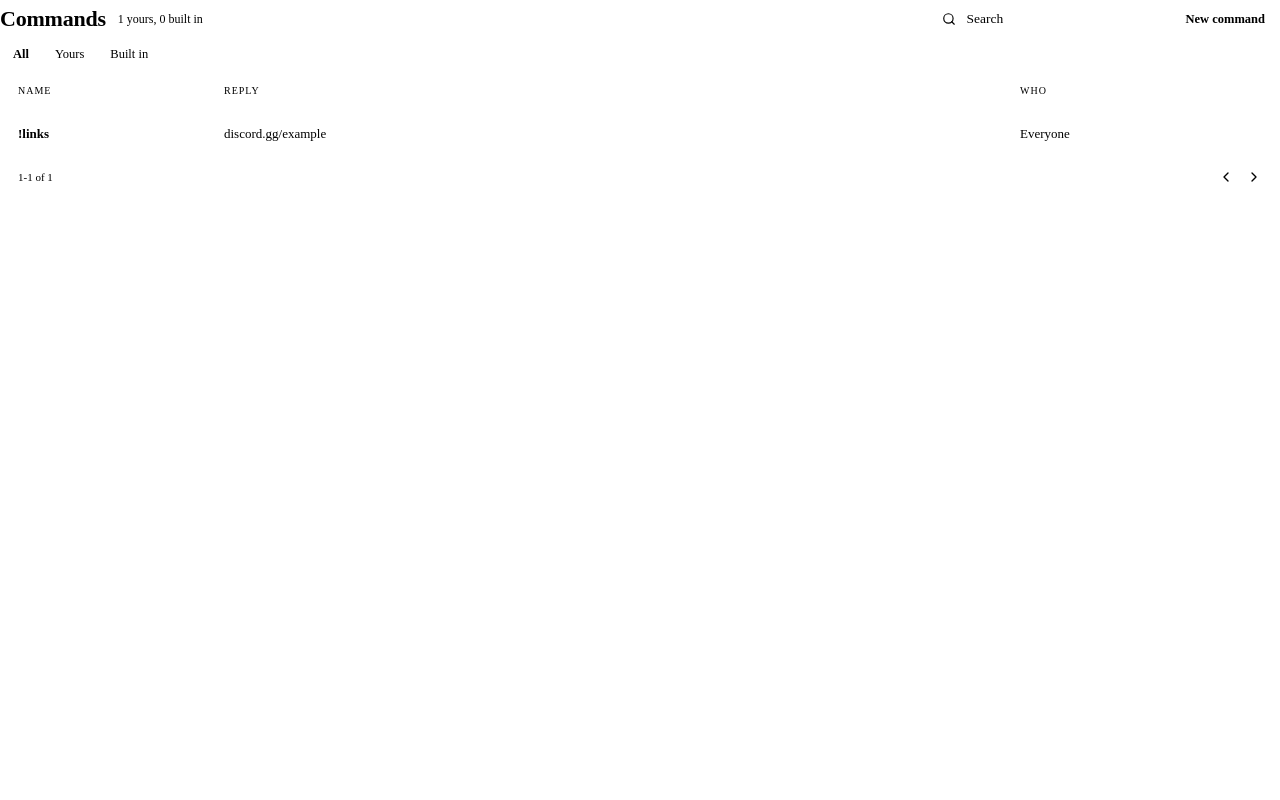
Commands › refuses an invalid name before it reaches the server
Expected: the text "!links" is shown, [18, 126, 49, 140]
Click the button "New command". click: (1226,19)
box: [1172, 0, 1279, 39]
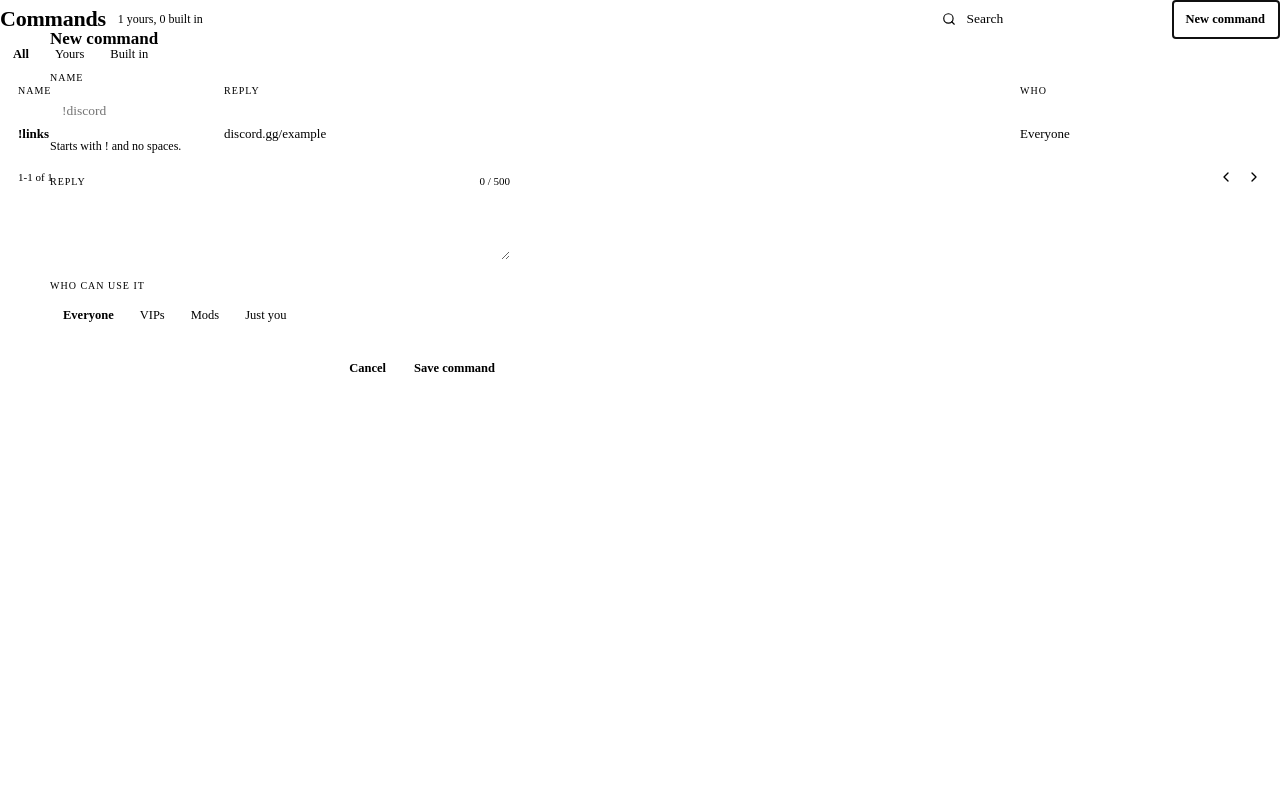
Type "nobang" into the field with placeholder "!discord". click: (280,111)
box: [50, 92, 510, 130]
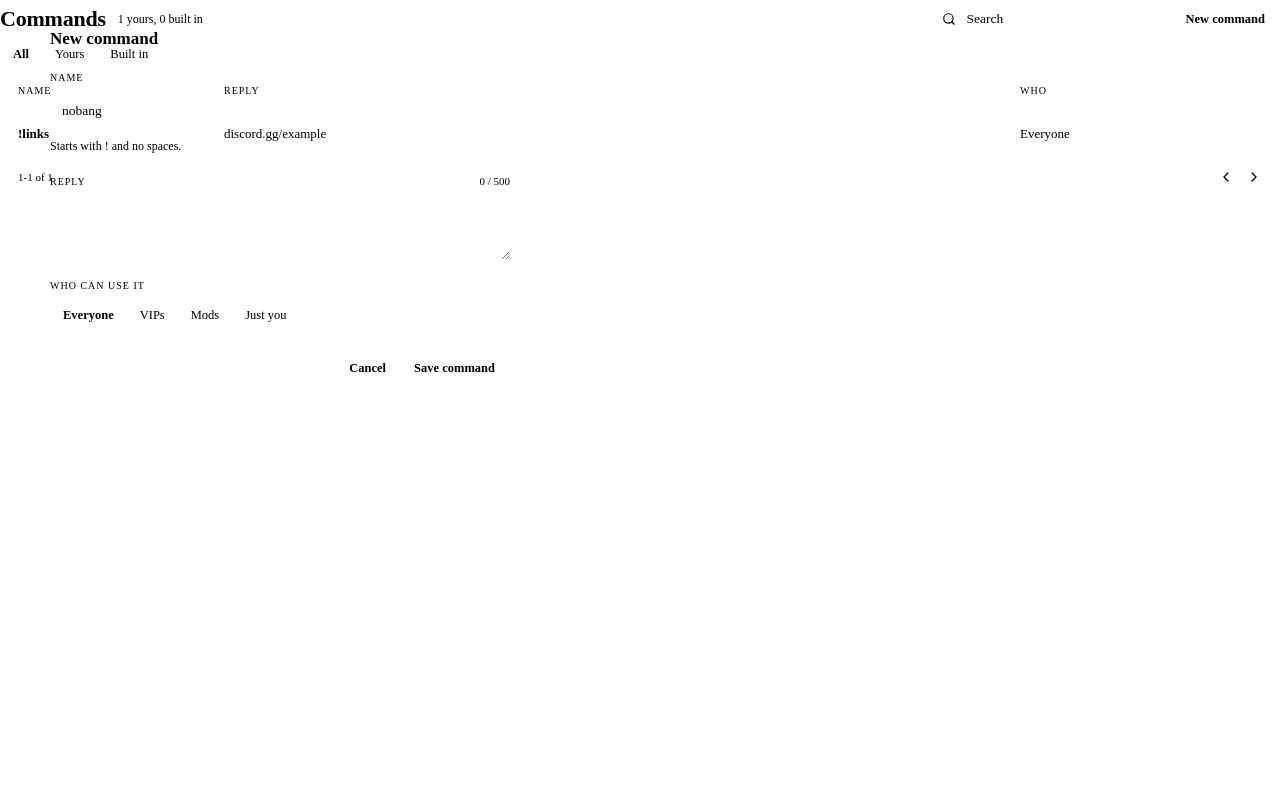
Type "x" into the text box with class "field__textarea". click: (280,228)
box: [50, 196, 510, 260]
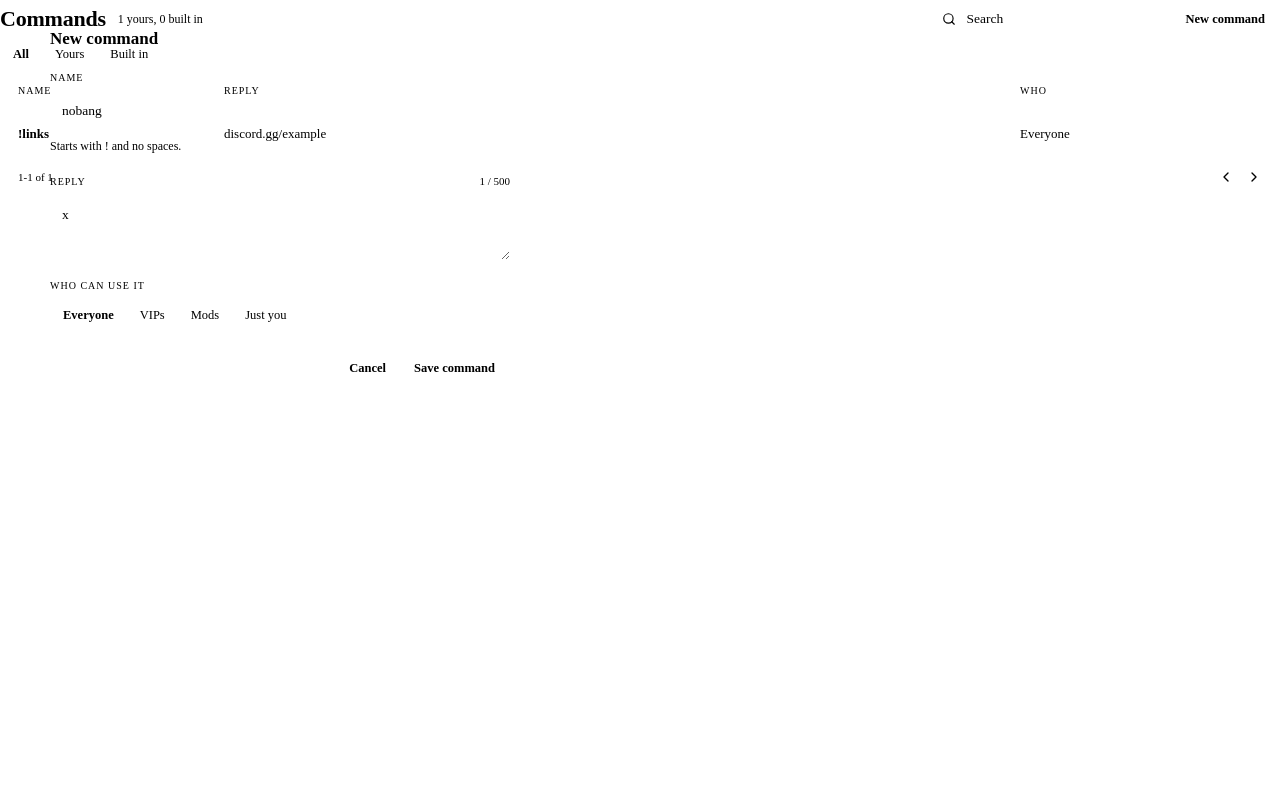
Click the button "Save command". click: (456,368)
box: [401, 349, 510, 388]
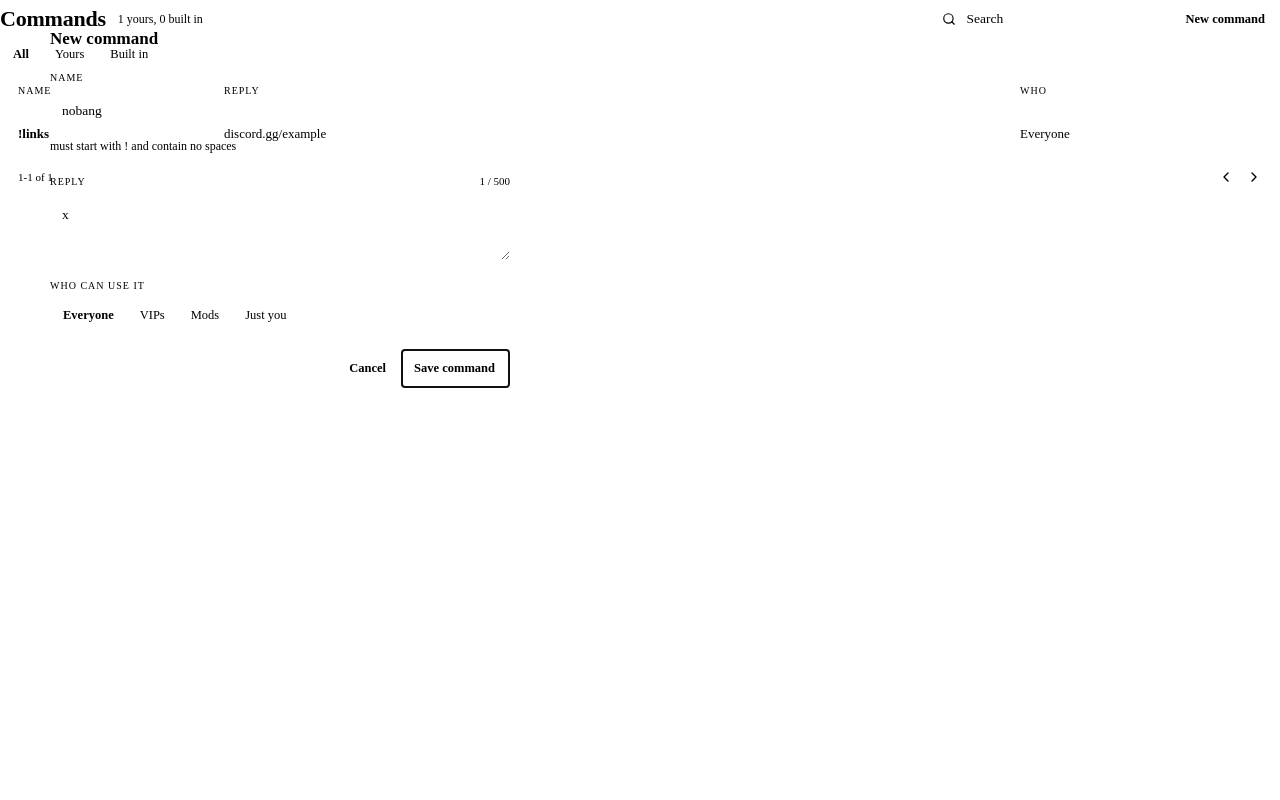
Result: the text "must start with ! and contain no spaces" is shown at [50, 139, 236, 153]
